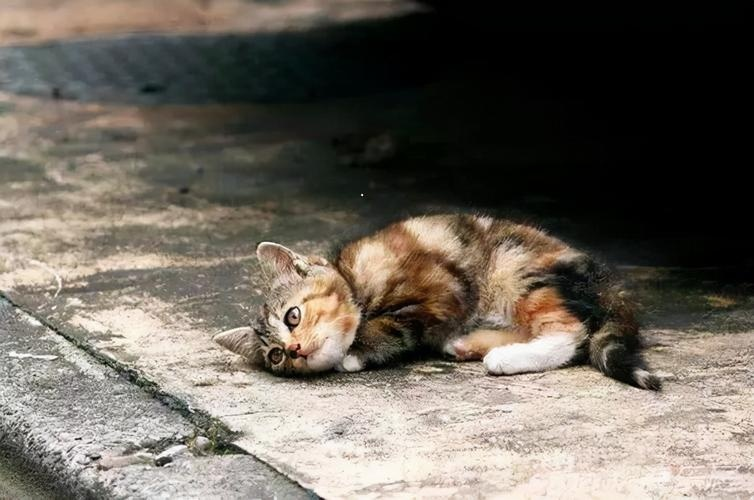cat: (214, 207, 662, 391)
